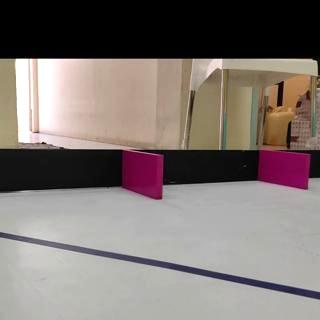xparking: (262, 155, 308, 189), (125, 158, 162, 196)
